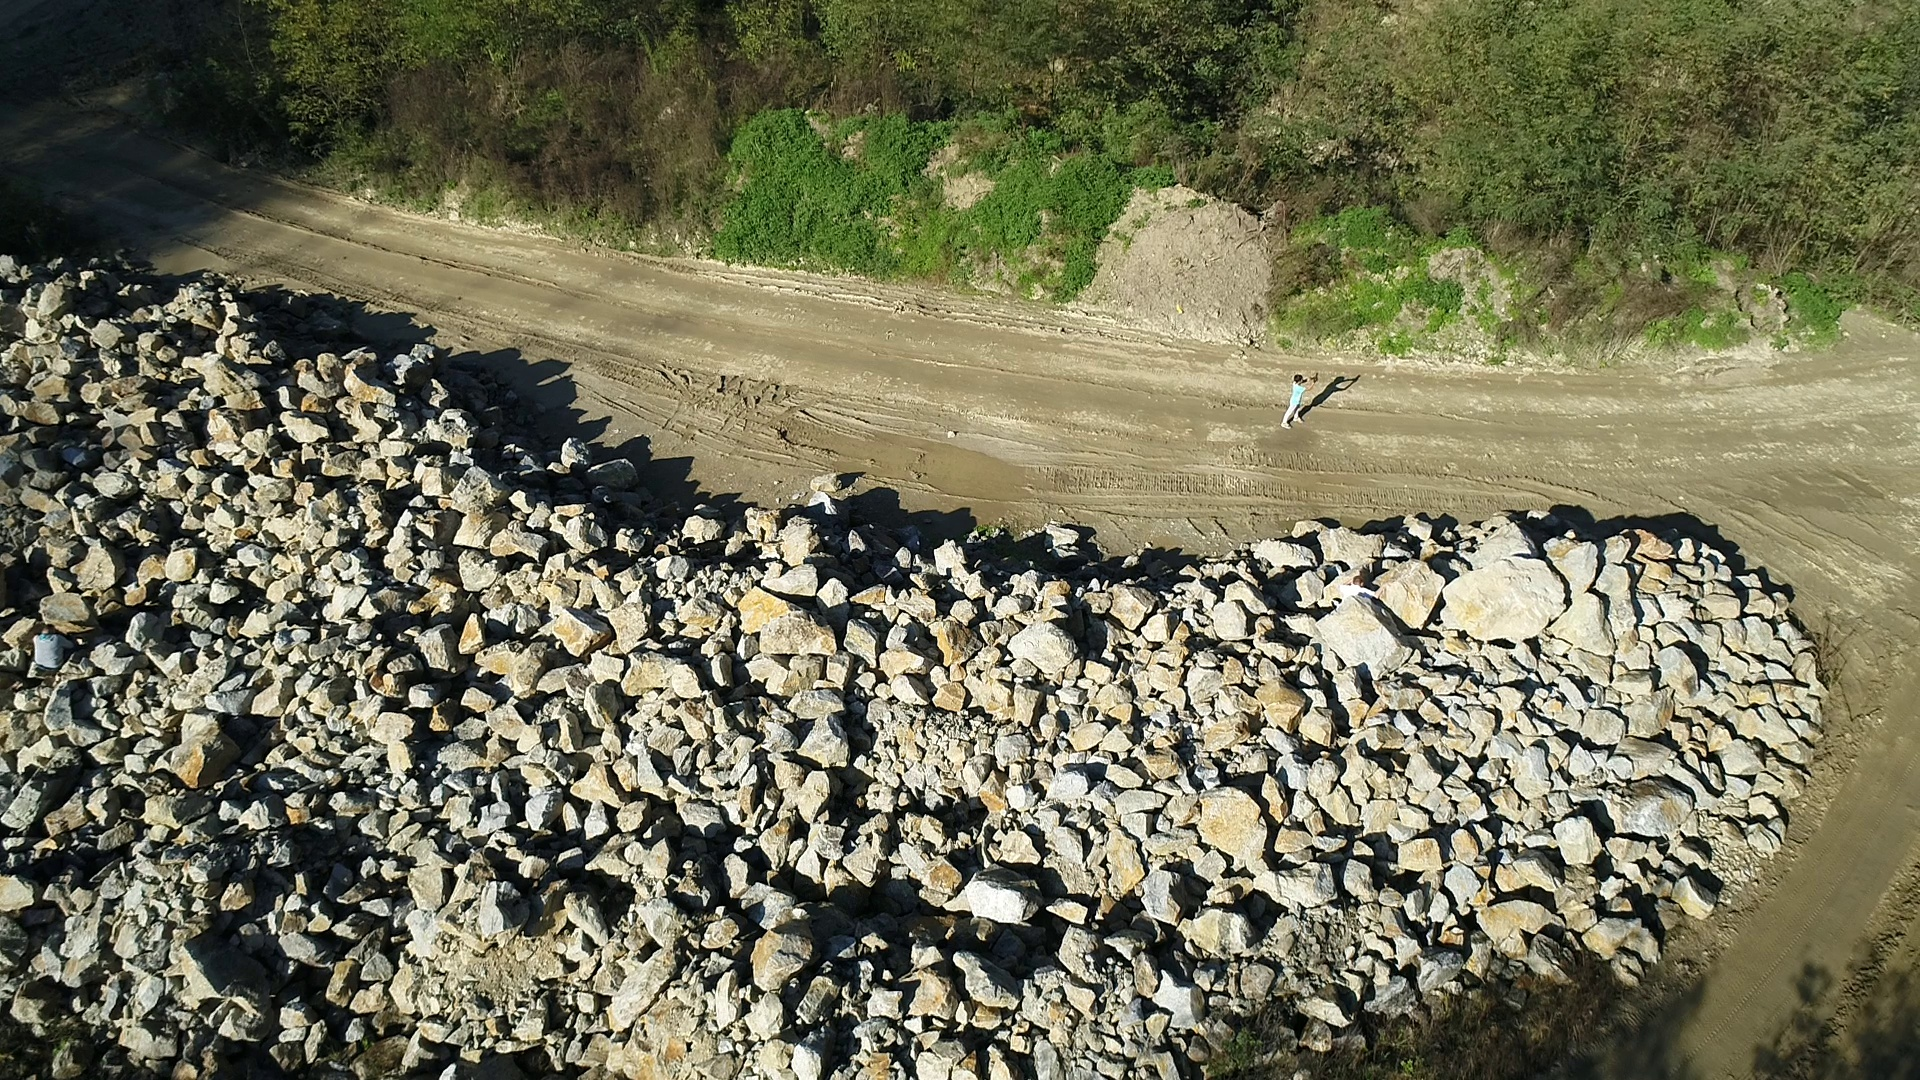not_defined: (1330, 575, 1392, 611)
person: (1280, 370, 1320, 429), (32, 623, 76, 672)
